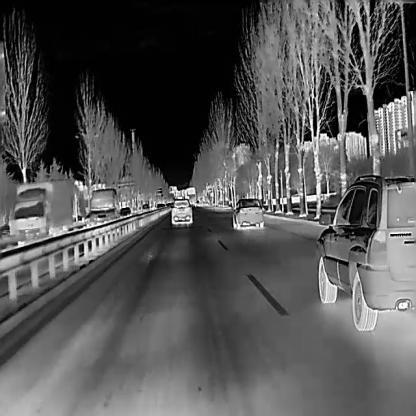car: (318, 171, 416, 329), (11, 180, 73, 249), (89, 186, 119, 228), (231, 196, 264, 229), (171, 197, 193, 224), (119, 206, 131, 220), (141, 201, 150, 212), (154, 203, 161, 212)
